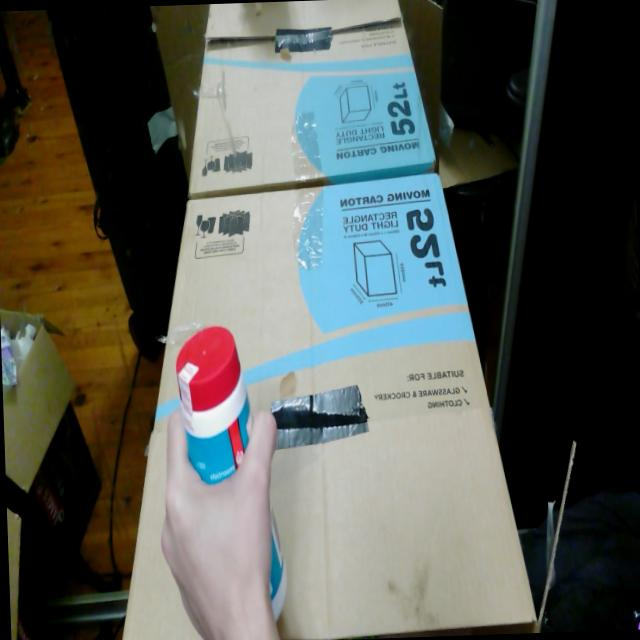woolworths_salt_bottle: (175, 326, 252, 484), (269, 506, 286, 620)
